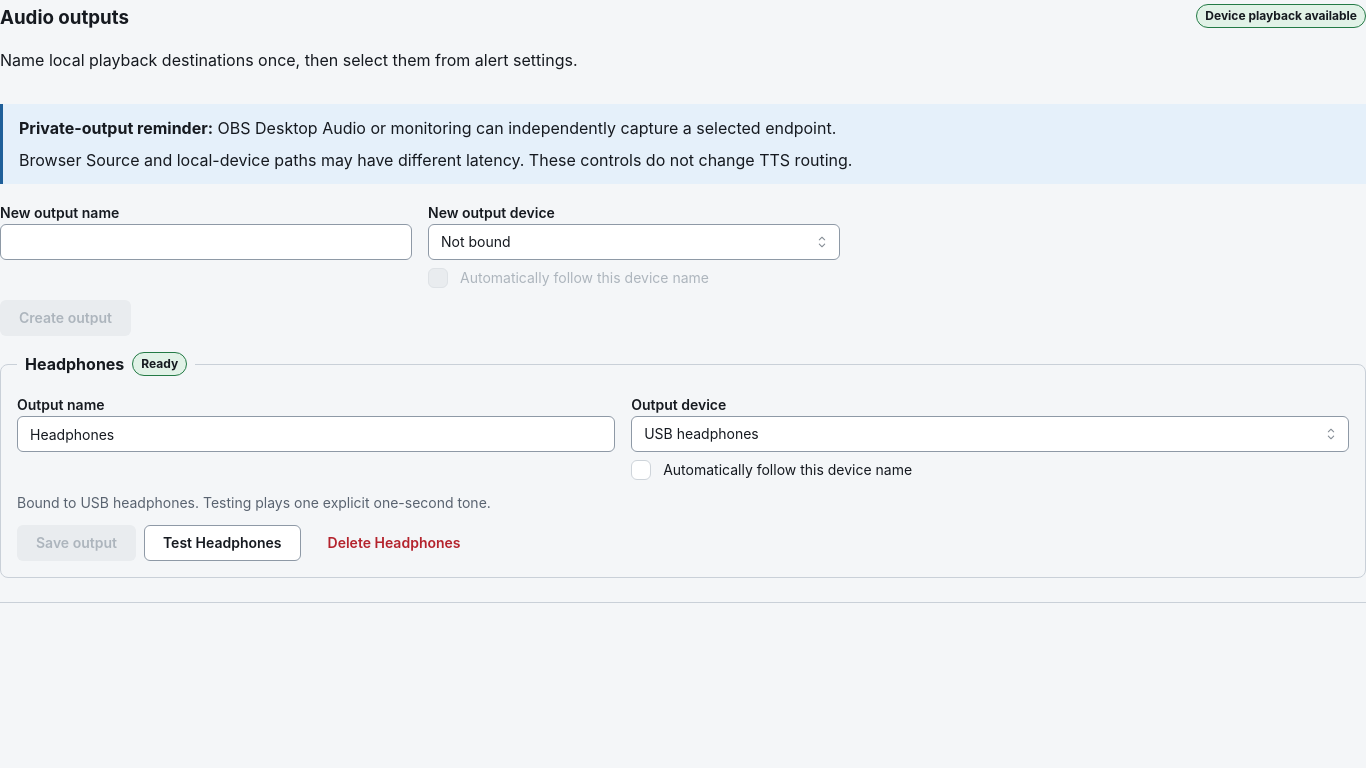
Test: AudioOutputsPanel › confirms deletion and shows module-qualified owner names from a conflict
Click the button "Delete Headphones": (394, 543) left=309, top=525, right=480, bottom=561
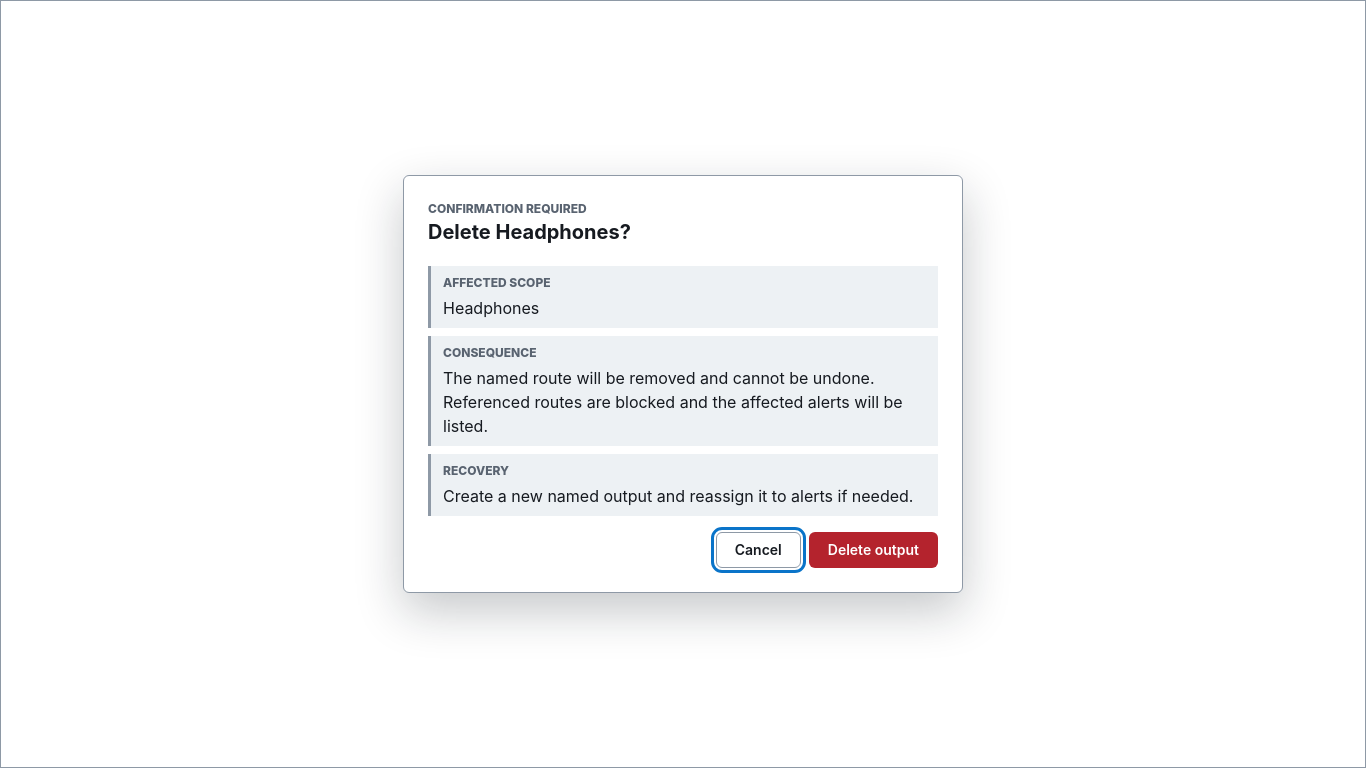
Check: the text "cannot be undone" is shown, box left=443, top=368, right=903, bottom=436
Click the button "Delete output": (873, 550) left=809, top=532, right=938, bottom=568
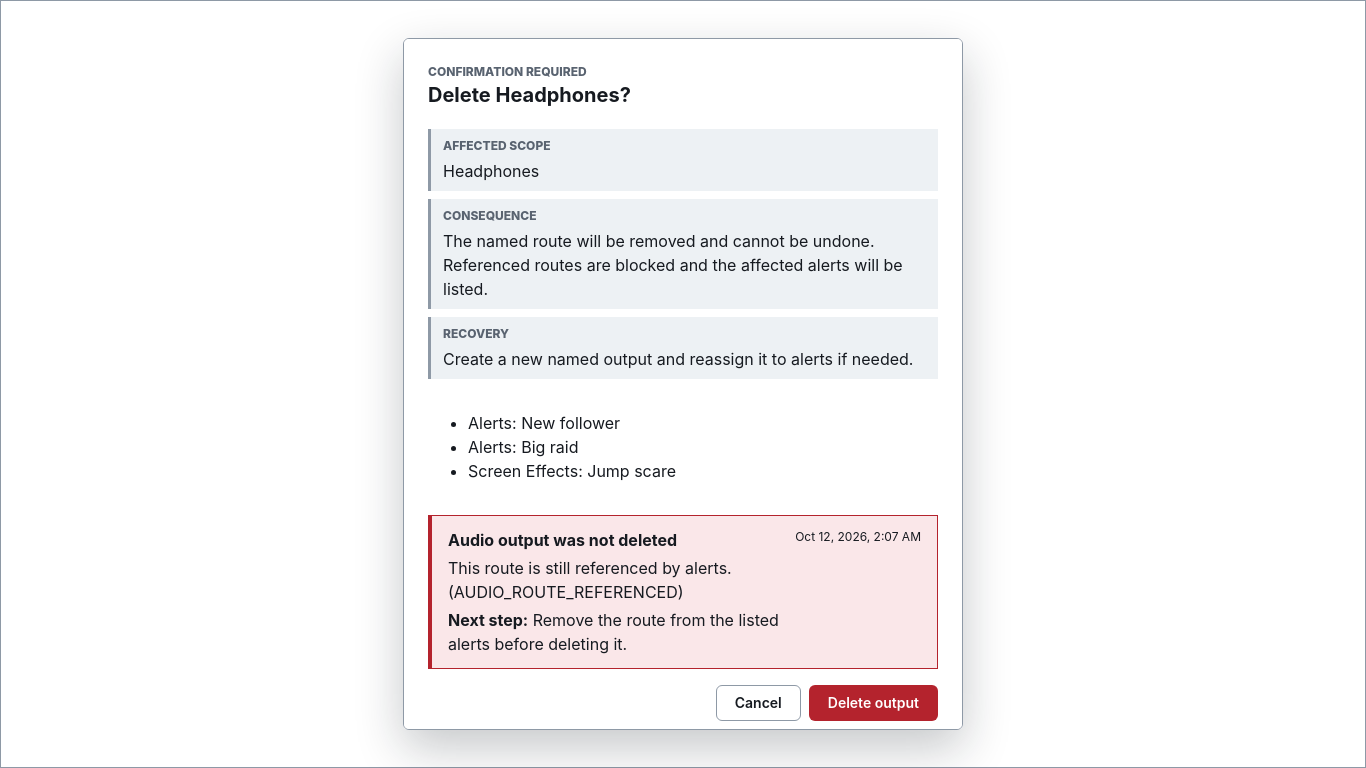
Check: the list item "Alerts: New follower" is shown, box left=468, top=413, right=620, bottom=433
Check: the list item "Alerts: Big raid" is shown, box left=468, top=437, right=578, bottom=457
Check: the list item "Screen Effects: Jump scare" is shown, box left=468, top=461, right=676, bottom=481
